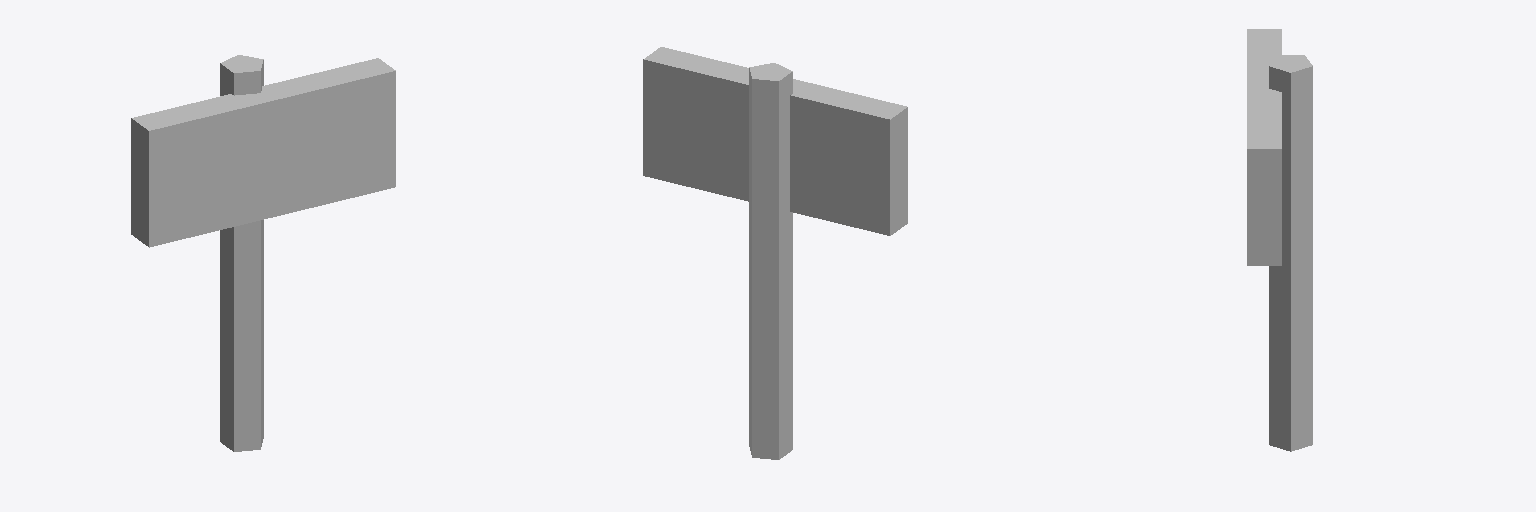
Rendered from sign post.obj.
3 views of the same model, side by side, from view 1: azimuth 30°, elevation 25°; view 2: azimuth 150°, elevation 25°; view 3: azimuth 270°, elevation 25° (orthographic).
Visible parts, largest first — view 1: Sign_post_Mesh.002; view 2: Sign_post_Mesh.002; view 3: Sign_post_Mesh.002.
Boxes of the visible parts, x1,y1,x2,y2 form: Sign_post_Mesh.002: [131, 55, 395, 451]; Sign_post_Mesh.002: [643, 47, 907, 459]; Sign_post_Mesh.002: [1247, 29, 1312, 451].
Size of the model in its own units: 1.24 by 1.82 by 0.2885.